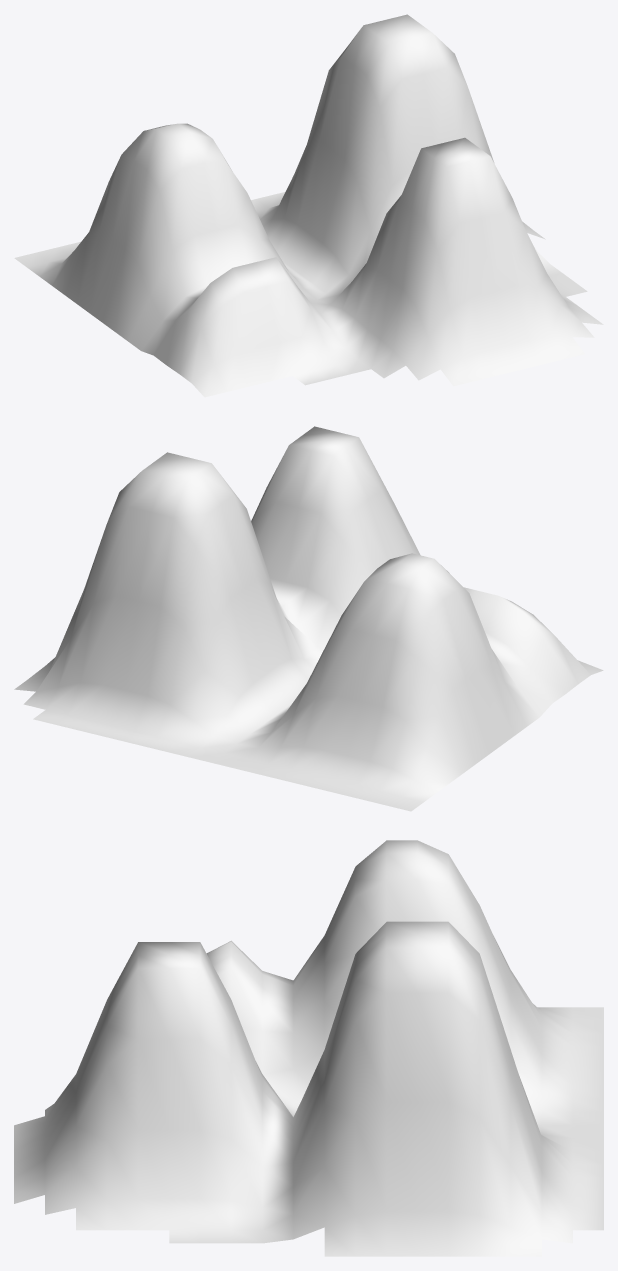
The model's file is Snow Mound 3.fbx.
The picture shows the model from 3 angles, top to bottom: view 1: azimuth 30°, elevation 25°; view 2: azimuth 150°, elevation 25°; view 3: azimuth 270°, elevation 25°; orthographic projection. The views are drawn at different scales.
Visible parts, largest first — view 1: DirtMound_3; view 2: DirtMound_3; view 3: DirtMound_3.
Part boxes in pixels (x1=…): DirtMound_3: x1=14, y1=14, x2=603, y2=397; DirtMound_3: x1=14, y1=426, x2=603, y2=811; DirtMound_3: x1=14, y1=840, x2=603, y2=1256.
Bounding box in the file's own units: 223 × 107 × 223.
1 material, 1 textured.
